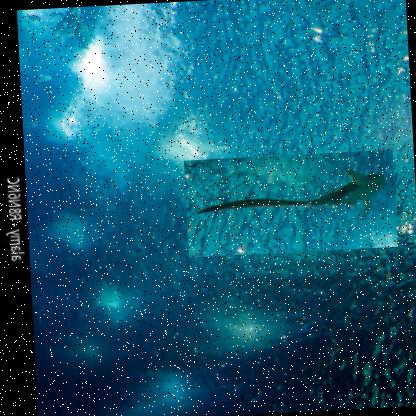zebra_shark: (181, 148, 396, 258)
